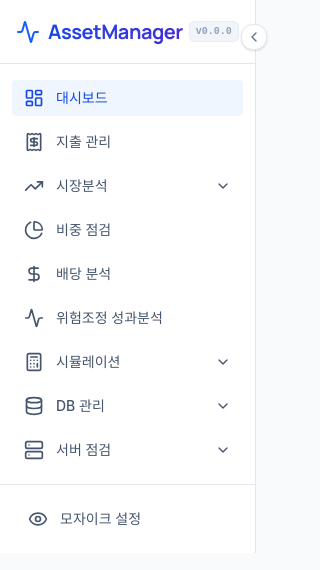
Test case: Sidebar Component › 토글 버튼 클릭 시 사이드바가 접히고 펼쳐져야 한다
Expected: the text "대시보드" is shown, [56, 88, 108, 108]
# 토글 버튼 클릭 (접기)
Click the button named "사이드바 접기" at (254, 37), box [241, 24, 267, 50]
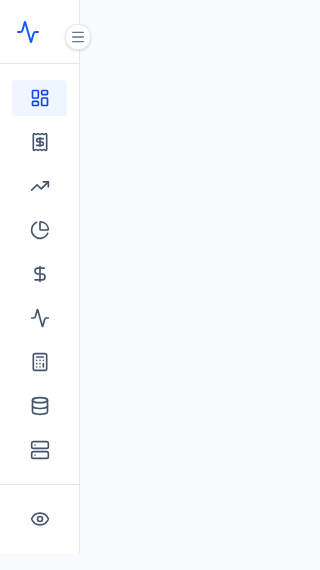
Expected: the text "대시보드" is gone
# 토글 버튼 클릭 (펼치기)
Click the button named "사이드바 펼치기" at (78, 37), box [65, 24, 91, 50]
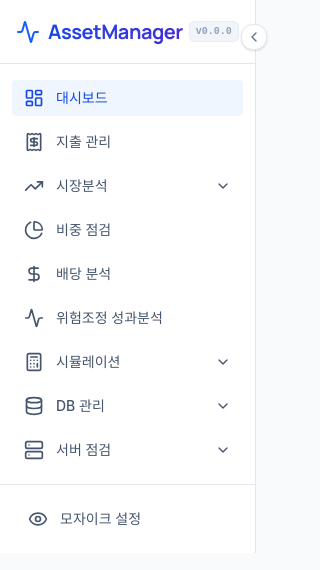
Expected: the text "대시보드" is shown, [56, 88, 108, 108]
